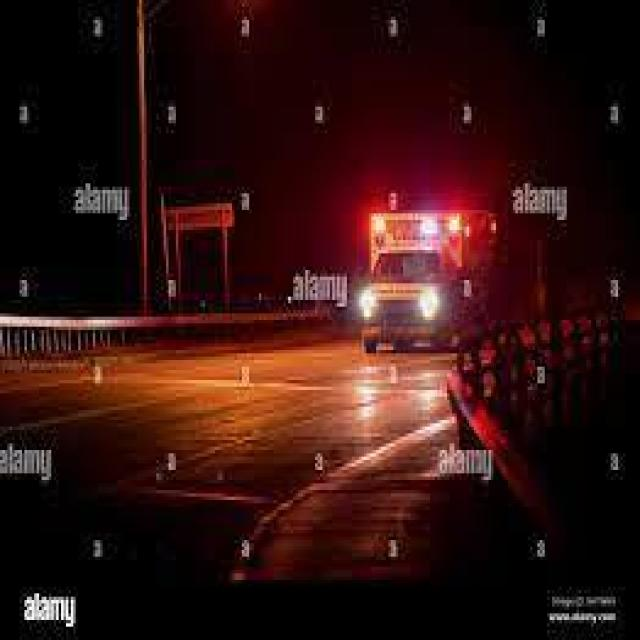ambulance: (358, 180, 484, 356)
